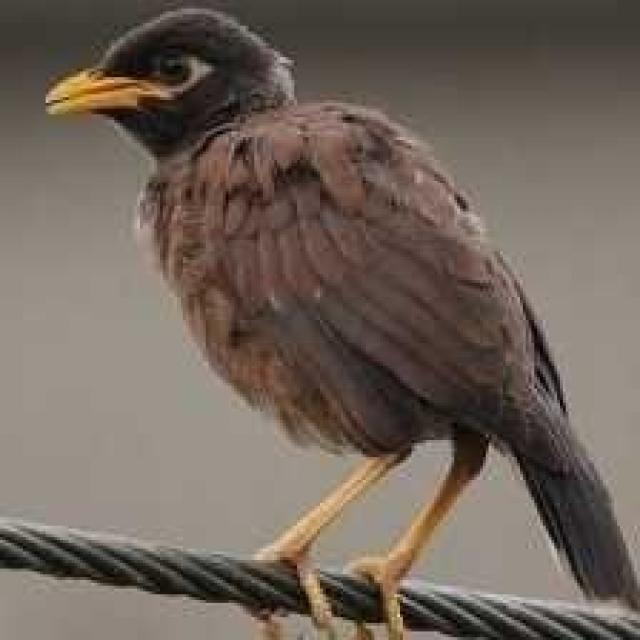bird: (41, 1, 640, 640)
